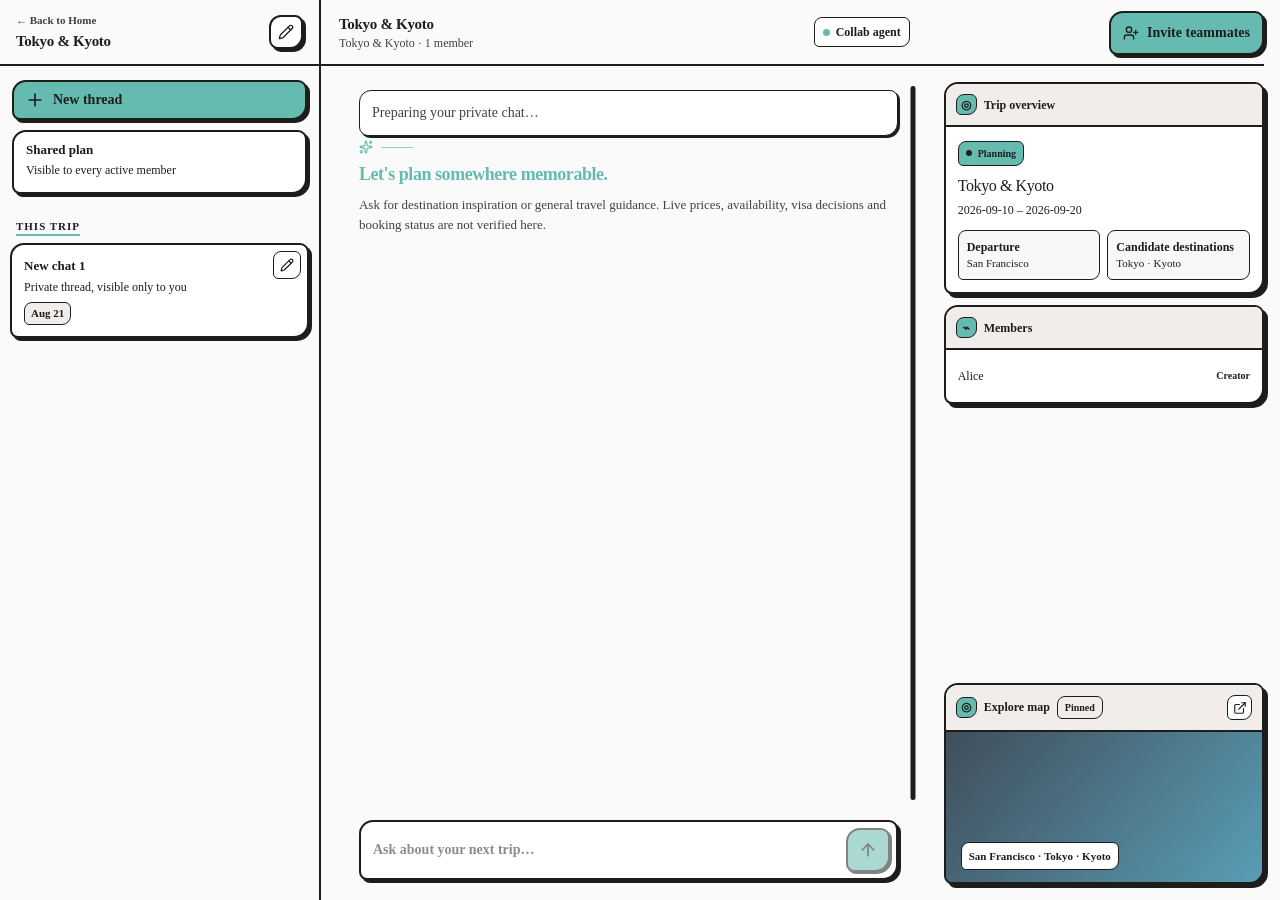
Test: TripWorkspace › explains a refused AI naming attempt (NO_MATERIAL) and keeps the title
The width and height of the screenshot is (1280, 900).
Click the button named "Thread actions".
click(287, 264)  # box [273,250,301,278]
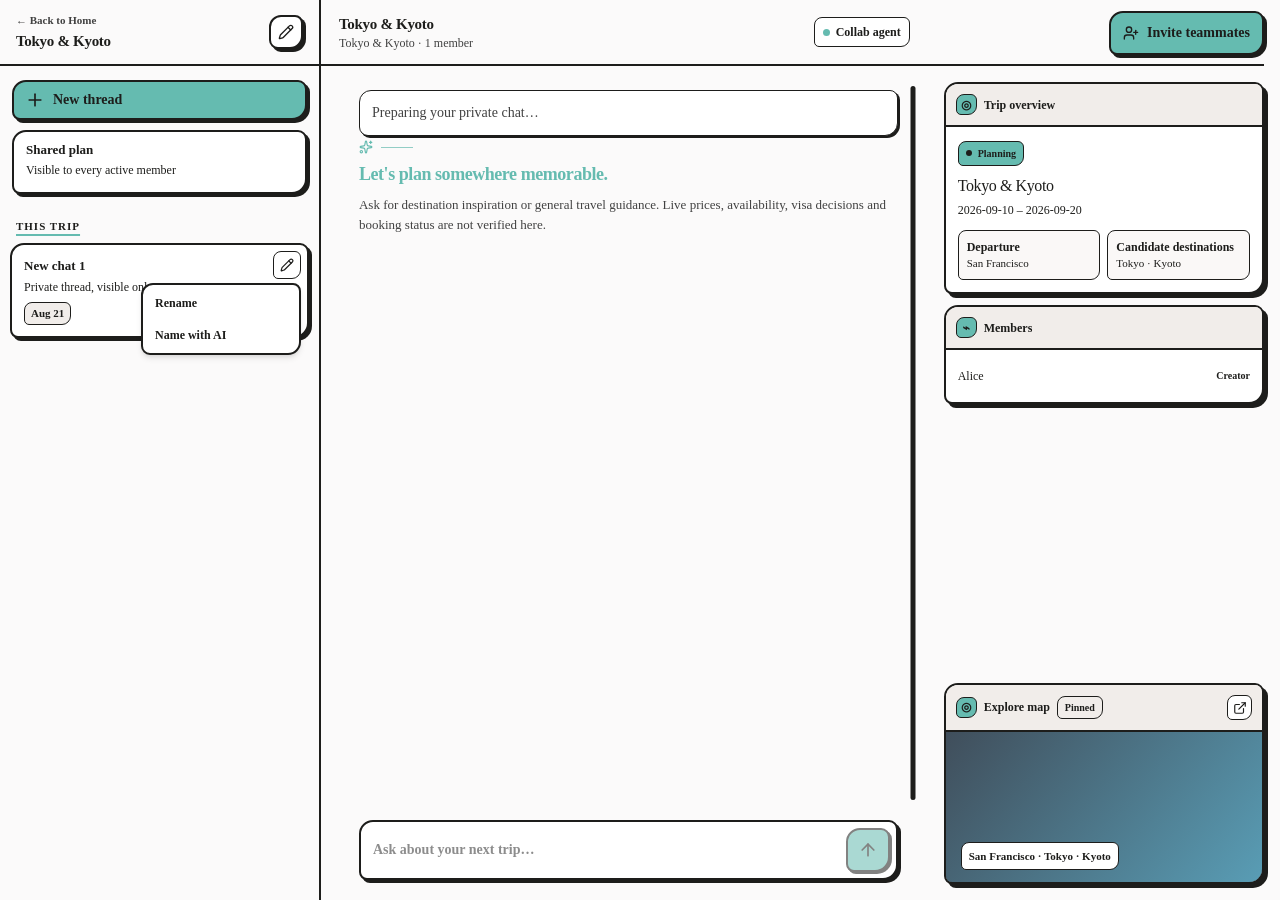
Click the menu item "Name with AI".
click(221, 334)  # box [147,320,295,348]
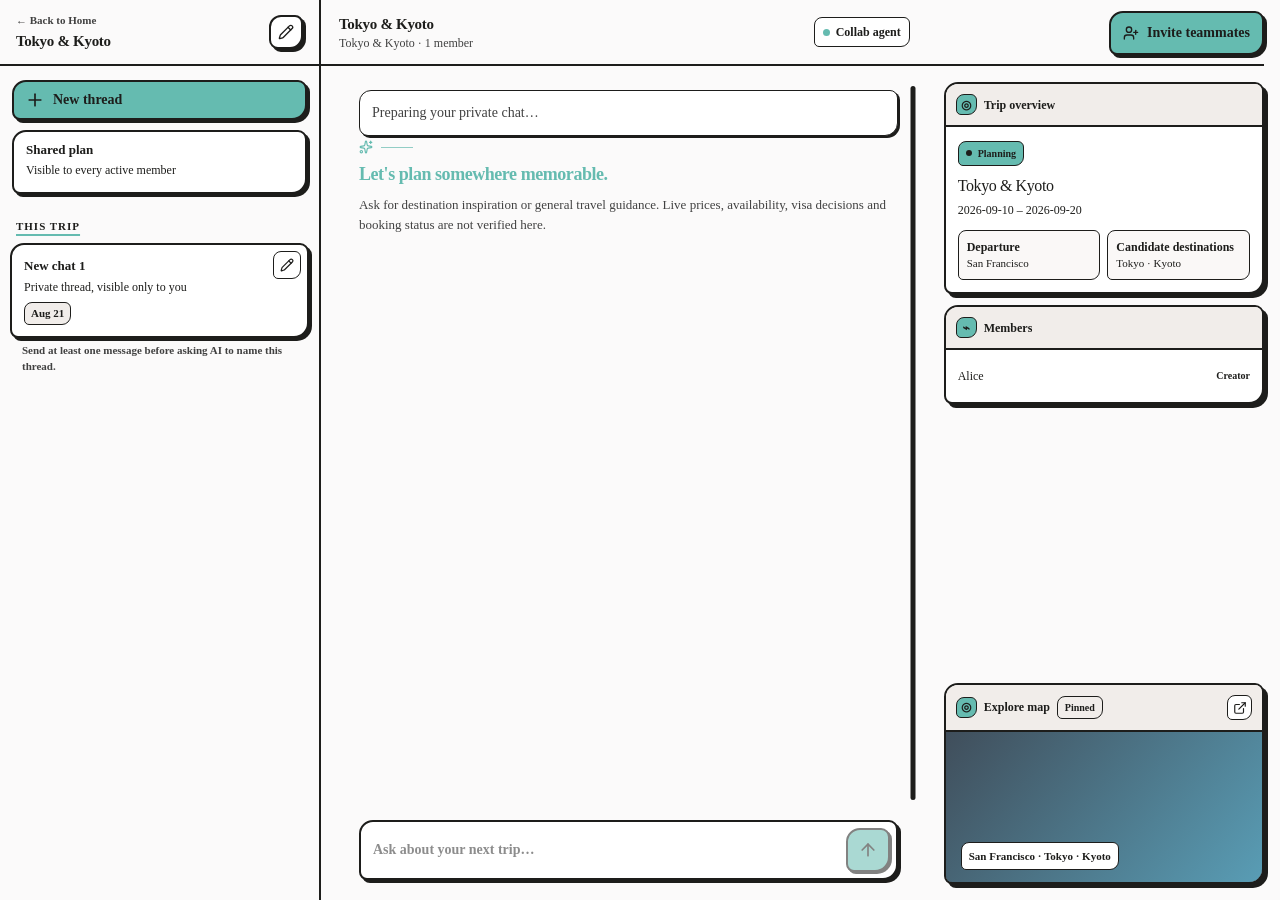
Check: the button "New chat 1 Private thread, visible only to you Aug 21" is shown, box [10,242,309,338]
Check: the text "Send at least one message before asking AI to name this thread." is shown, box [10,342,309,374]
